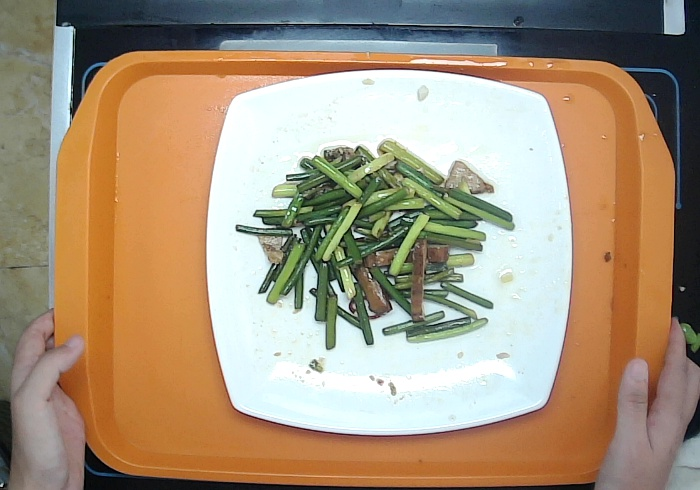ZNLD-Bai_Fang_Pan: (196, 62, 570, 433)
